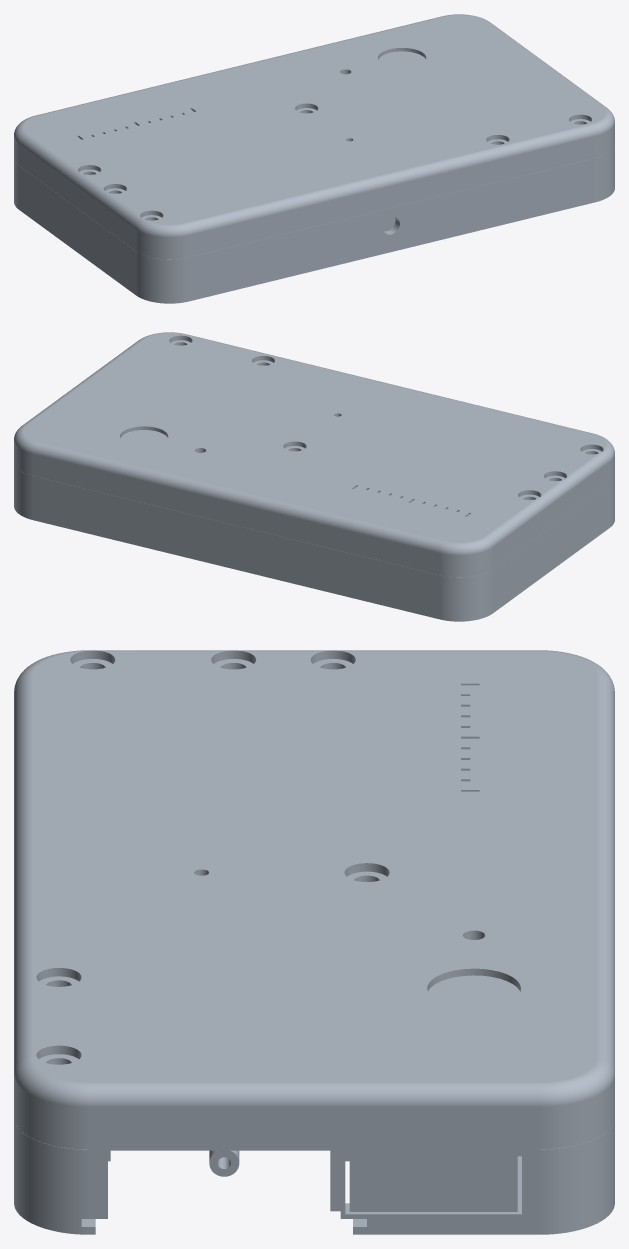
File: OP-100_assembly.glb
3 renders of one model, top to bottom at view 1: azimuth 30°, elevation 25°; view 2: azimuth 150°, elevation 25°; view 3: azimuth 270°, elevation 25°, orthographic. The views are drawn at different scales.
Parts seen in each view (by area): view 1: top, bottom; view 2: top, bottom; view 3: top, bottom, usb_conn.
Boxes of the visible parts, <box> form: top: <box>14,14,614,259</box>; bottom: <box>14,145,614,303</box>; top: <box>14,332,614,577</box>; bottom: <box>14,463,614,621</box>; top: <box>14,650,614,1149</box>; bottom: <box>14,1119,614,1234</box>; usb_conn: <box>349,1156,517,1211</box>.
Bounding box in the file's own units: 0.0562 × 0.0085 × 0.032.
